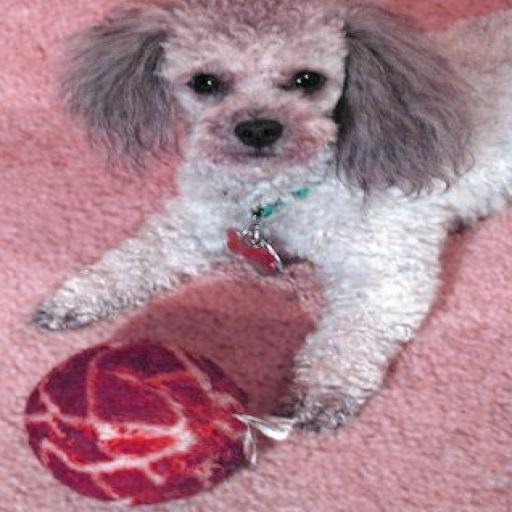dog_face: (85, 0, 446, 163)
